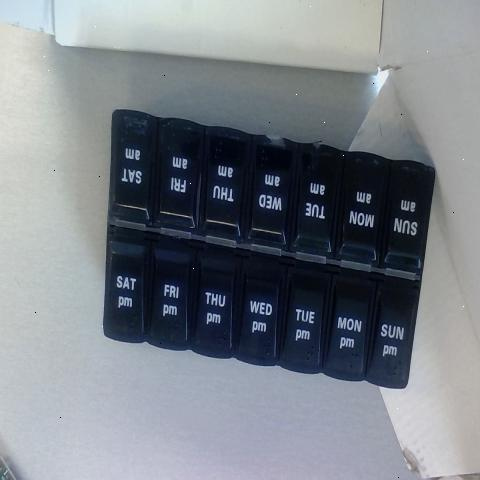FRI-am: (159, 124, 203, 231)
FRI-pm: (152, 248, 192, 346)
MON-am: (342, 160, 386, 260)
MON-pm: (333, 274, 369, 376)
SAT-am: (114, 117, 148, 213)
SAT-pm: (107, 237, 144, 340)
SUN-am: (387, 169, 426, 266)
SUN-pm: (372, 276, 410, 388)
THU-am: (206, 137, 247, 241)
THU-pm: (196, 250, 235, 354)
TUE-am: (302, 156, 338, 258)
TUE-pm: (290, 270, 328, 372)
WED-am: (252, 142, 294, 247)
WED-pm: (244, 260, 283, 362)
